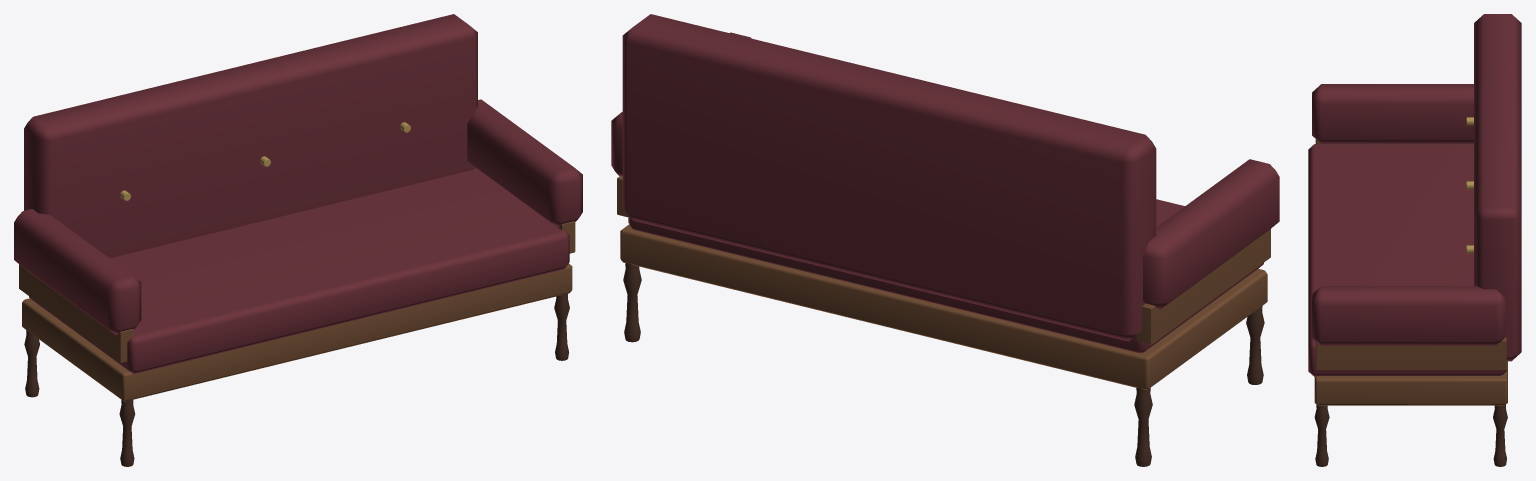
Rendered from rpg-mansion-sofa-01.glb.
3 views of the same model, side by side, from view 1: azimuth 30°, elevation 25°; view 2: azimuth 150°, elevation 25°; view 3: azimuth 270°, elevation 25° (orthographic). The views are drawn at different scales.
Visible parts, largest first — view 1: rpg-mansion-sofa-01; view 2: rpg-mansion-sofa-01; view 3: rpg-mansion-sofa-01.
Boxes of the visible parts, x1=… form: rpg-mansion-sofa-01: x1=14, y1=14, x2=582, y2=466; rpg-mansion-sofa-01: x1=611, y1=14, x2=1279, y2=466; rpg-mansion-sofa-01: x1=1308, y1=14, x2=1521, y2=466.
Bounding box in the file's own units: 2.05 × 1.12 × 0.85.
